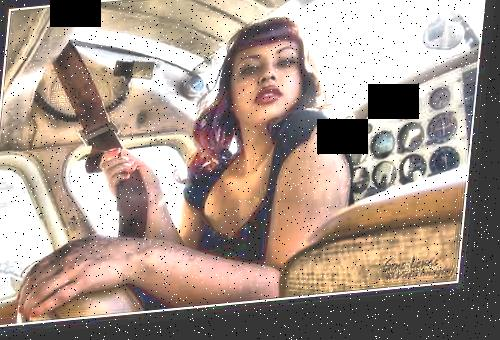seatbelt: (43, 40, 178, 242)
